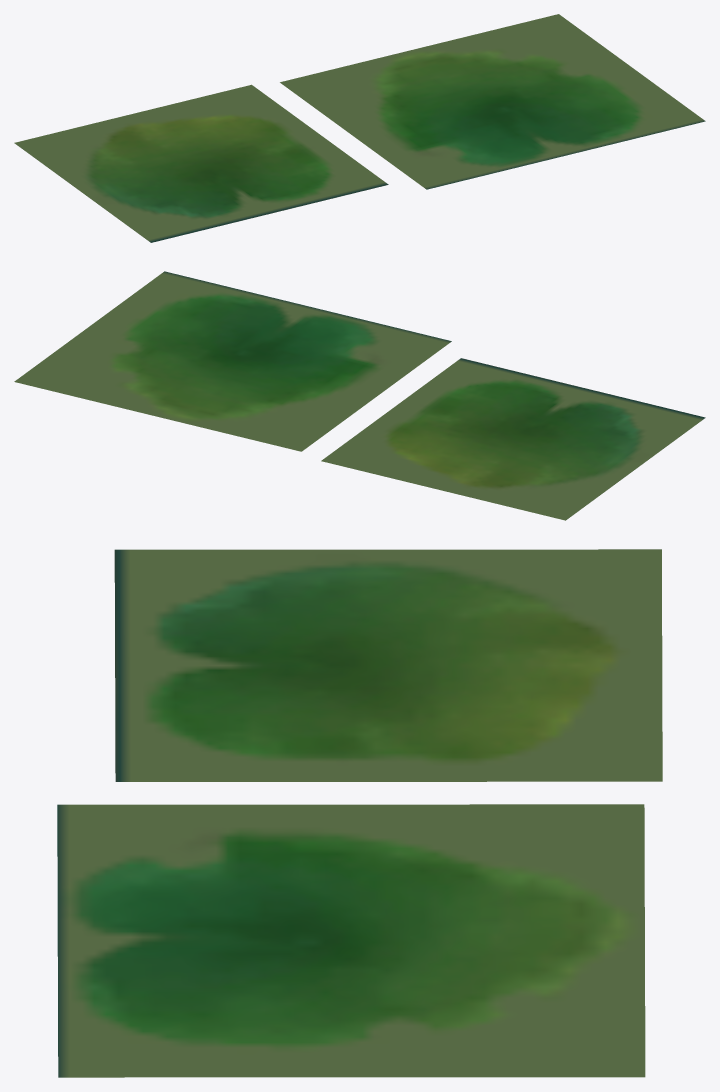
File: FB0_hehua02.FBX
3 views of the same model, one above another, from view 1: azimuth 30°, elevation 25°; view 2: azimuth 150°, elevation 25°; view 3: azimuth 270°, elevation 25° (orthographic). The views are drawn at different scales.
Parts seen in each view (by area): view 1: FB0_hehua02_002, FB0_hehua02_001; view 2: FB0_hehua02_002, FB0_hehua02_001; view 3: FB0_hehua02_002, FB0_hehua02_001.
Part boxes in pixels (left/top/right/bottom): FB0_hehua02_002: left=280, top=14, right=705, bottom=189; FB0_hehua02_001: left=14, top=84, right=388, bottom=242; FB0_hehua02_002: left=14, top=271, right=451, bottom=451; FB0_hehua02_001: left=321, top=358, right=705, bottom=520; FB0_hehua02_002: left=57, top=804, right=645, bottom=1077; FB0_hehua02_001: left=114, top=549, right=662, bottom=781.
Size of the model in its own units: 245 by 0.0052 by 119.
